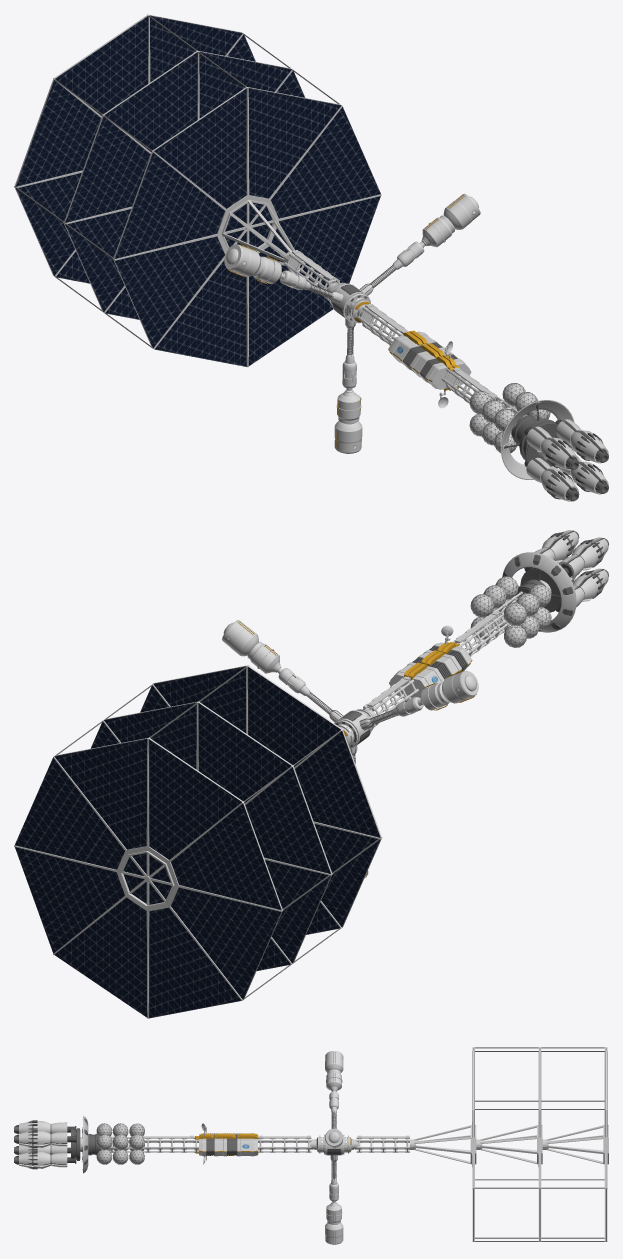
Rendered from satellite-transformed.glb.
3 views of the same model, one above another, from view 1: azimuth 30°, elevation 25°; view 2: azimuth 150°, elevation 25°; view 3: azimuth 270°, elevation 25° (orthographic). The views are drawn at different scales.
Visible parts, largest first — view 1: Object_2; view 2: Object_2; view 3: Object_2.
Part boxes in pixels (x1,y1,x2,y2): Object_2: [14, 14, 608, 501]; Object_2: [14, 530, 608, 1018]; Object_2: [14, 1047, 608, 1244].
Size of the model in its own units: 27.64 by 28.51 by 79.52.
Materials: 1 (1 with a texture image).
